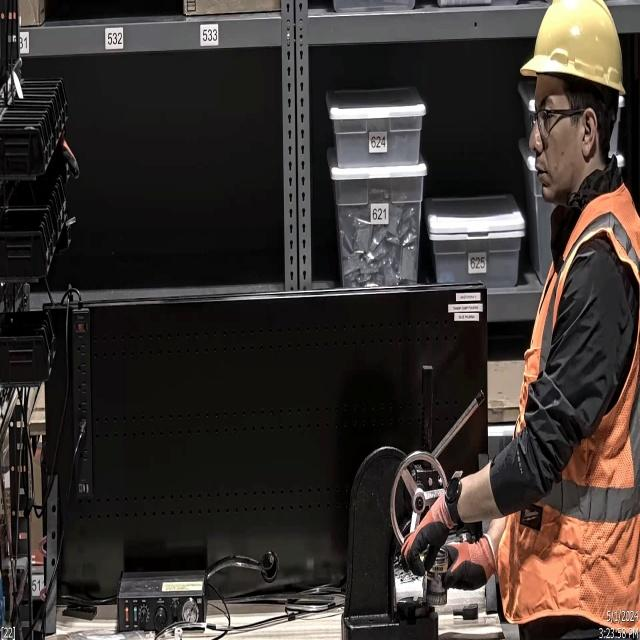gloves: (398, 474, 458, 580)
